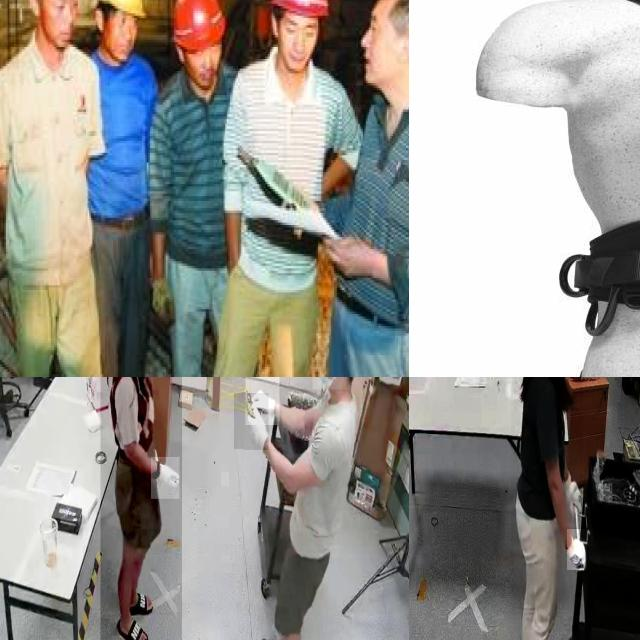No_Ear-Protection: (357, 0, 409, 98), (266, 0, 321, 66), (91, 0, 138, 58), (23, 0, 83, 41)
face_mask: (312, 377, 349, 389)
hand_glove: (234, 393, 268, 450), (245, 377, 279, 425), (562, 465, 584, 528), (151, 457, 180, 500), (567, 529, 587, 571)
person: (244, 377, 363, 640), (100, 377, 182, 640), (510, 377, 583, 640)
